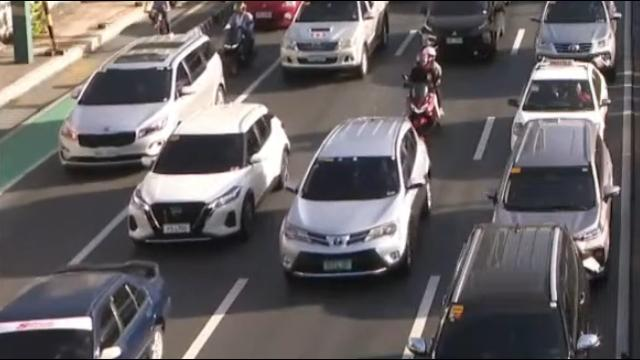car: (280, 117, 432, 275), (54, 30, 223, 172), (127, 106, 289, 247), (427, 225, 589, 360), (0, 261, 169, 360), (494, 117, 615, 243), (511, 54, 609, 144), (280, 2, 392, 78), (532, 1, 623, 83), (419, 2, 509, 63), (239, 1, 306, 31)
motorcycle: (401, 46, 443, 136), (222, 1, 259, 81)
